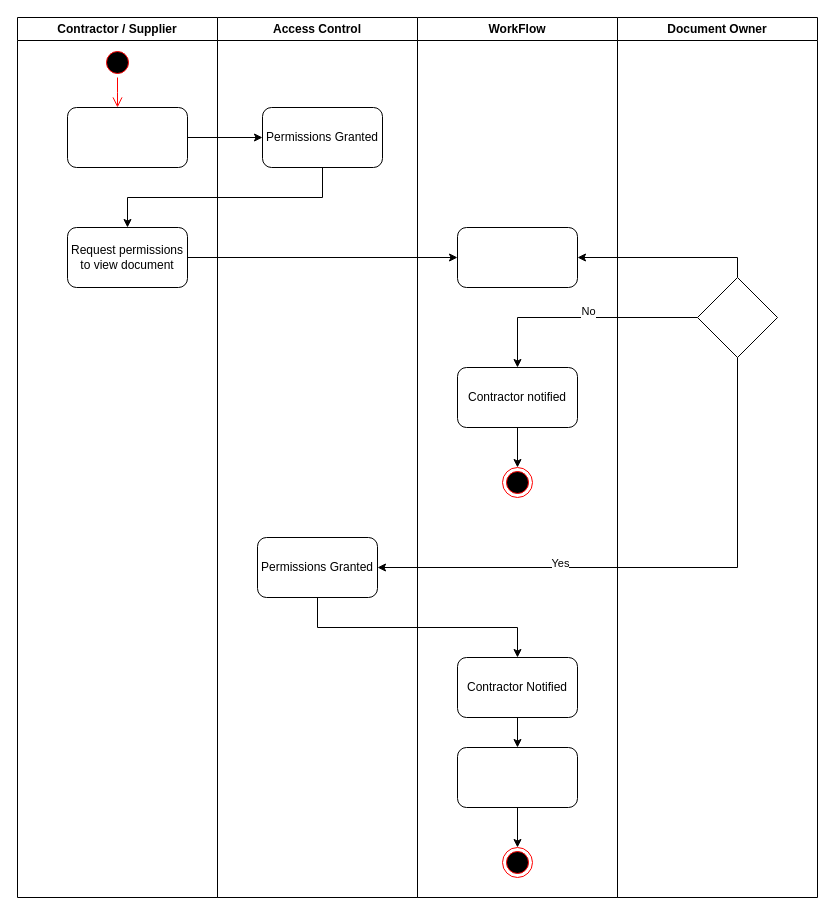
The diagram is 835 pixels wide and 915 high, and some of its shapes have lost their labels. Each missing label, with the centre of its shape:
"Contractor Login" belongs at point (127, 137).
"Contractor views document" belongs at point (517, 777).
"Owner Approval" belongs at point (737, 317).
"Owner notified" belongs at point (517, 257).
